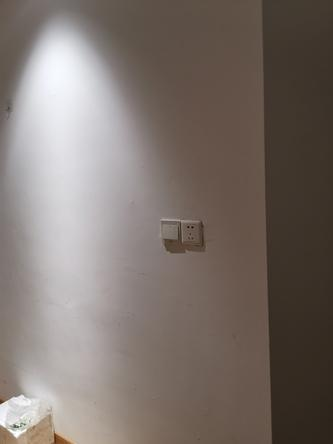switch: (160, 218, 180, 240)
